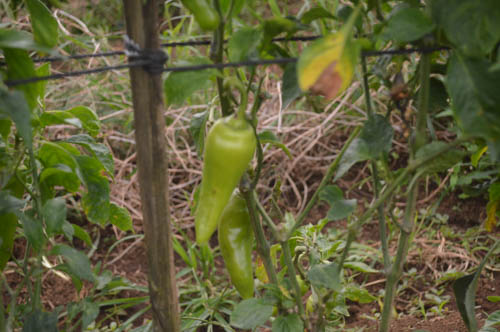ChiliPepper: (191, 123, 253, 249), (220, 195, 256, 293)
